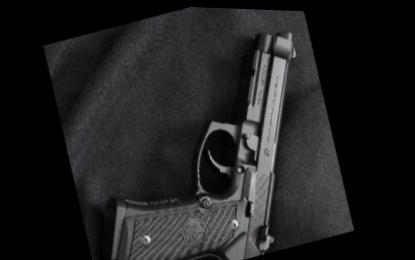pistol: (45, 9, 358, 259)
